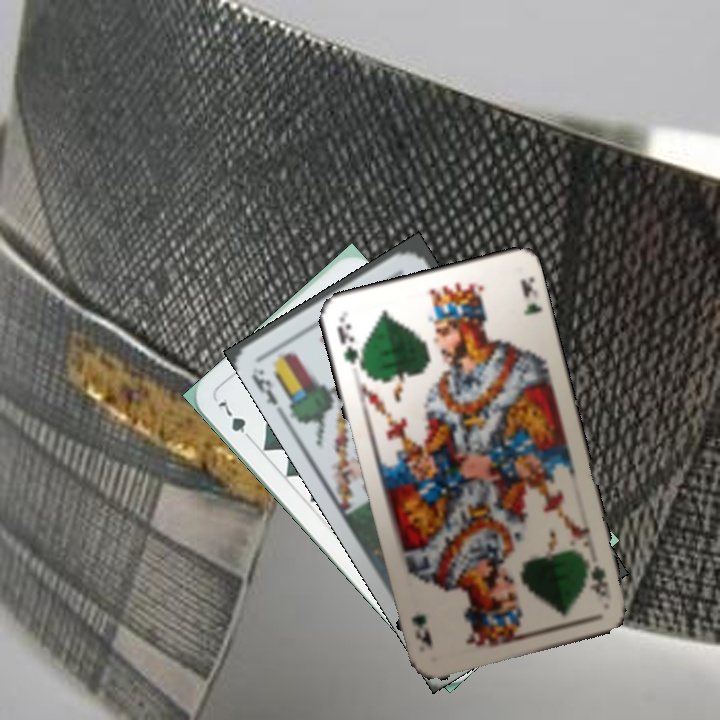EK: (247, 370, 280, 408)
G7: (213, 394, 256, 445)
GK: (333, 317, 367, 373), (580, 555, 614, 603)
